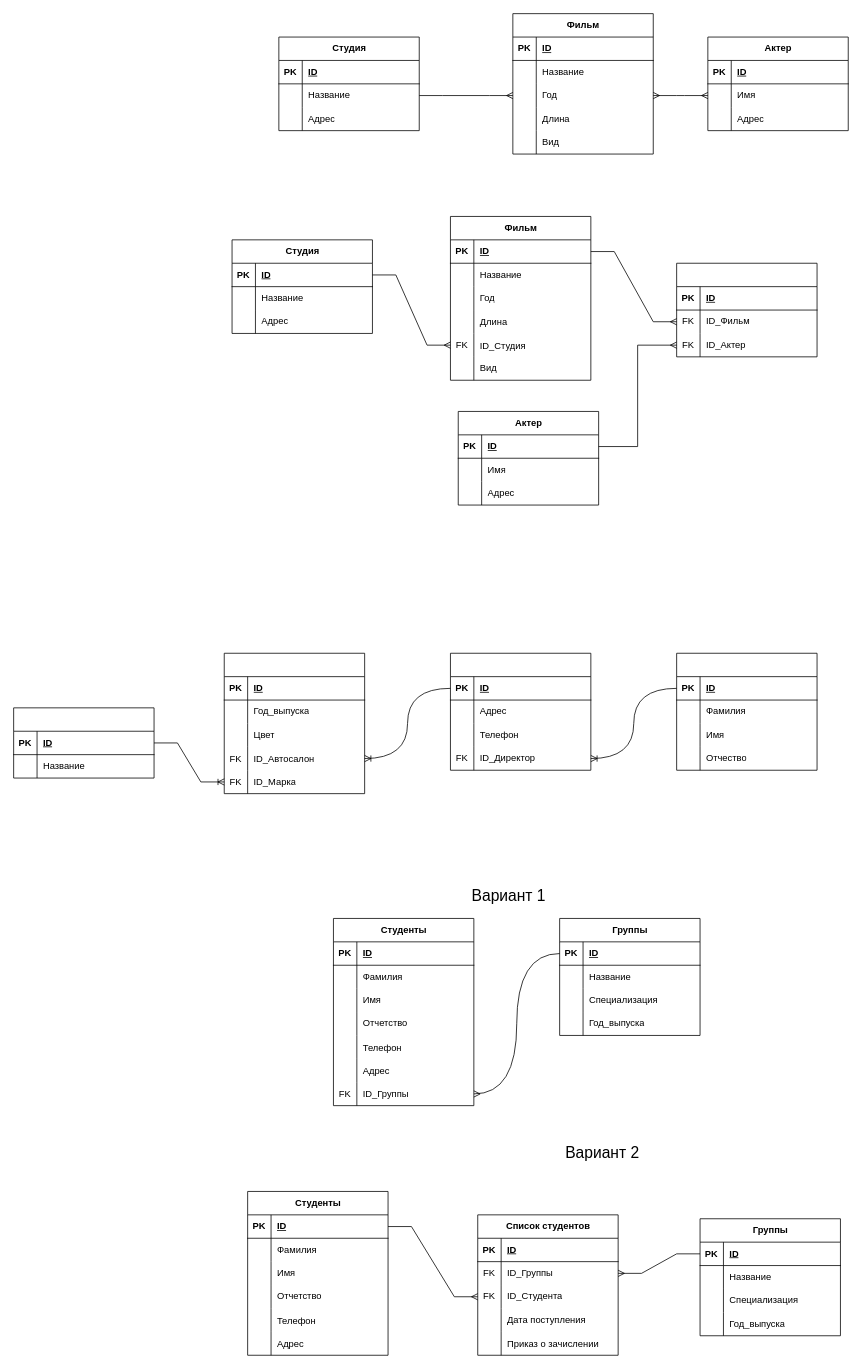
Some shapes in this 862 by 1369 pixel diagram are drawn without their labels. Here are the shapes that lost their labels. From the top down, the box of each, then its label:
(676, 262, 817, 357): Актерский состав
(223, 652, 365, 794): Автомобили
(450, 652, 591, 770): Автосалоны
(676, 652, 817, 770): Директоры
(13, 707, 154, 778): Марка
